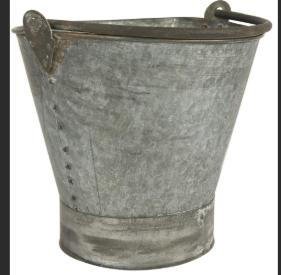SEAU: (12, 0, 279, 275)
